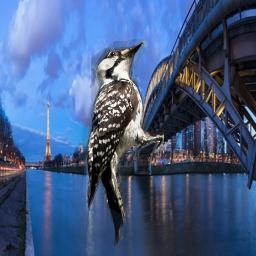Woodpecker: (80, 37, 164, 249)
